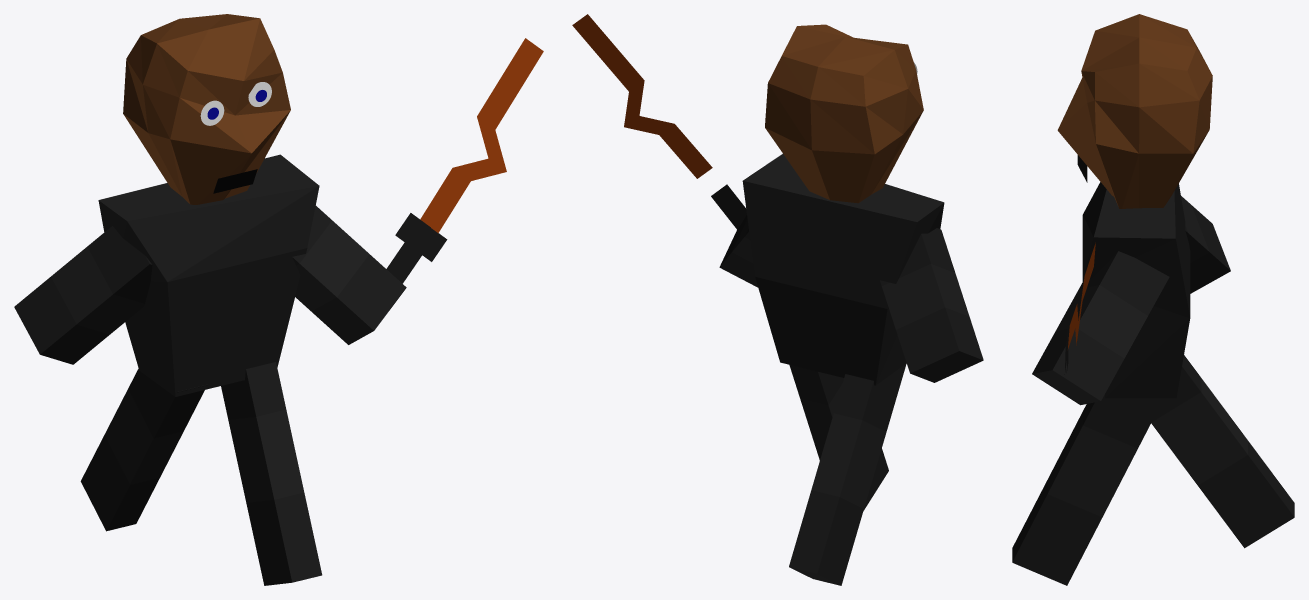
The model's file is swordsman3.obj.
3 renders of one model, left to right at view 1: azimuth 30°, elevation 25°; view 2: azimuth 150°, elevation 25°; view 3: azimuth 270°, elevation 25°, orthographic. The views are drawn at different scales.
Visible parts, largest first — view 1: Cube.001, Cube, Cube.005, Cube.003, Cube.004, Cube.002, Plane.003_Plane.004, Plane.002_Plane.003, Plane.001_Plane.002; view 2: Cube.001, Cube, Cube.004, Cube.003, Plane.003_Plane.004, Cube.005, Cube.002, Plane.001_Plane.002; view 3: Cube, Cube.001, Cube.005, Cube.004, Cube.002, Cube.003, Plane.003_Plane.004.
Boxes of the visible parts, left/top/right/bottom form: Cube.001: left=98, top=154, right=319, bottom=396; Cube: left=123, top=14, right=290, bottom=204; Cube.005: left=221, top=362, right=322, bottom=585; Cube.003: left=14, top=226, right=152, bottom=364; Cube.004: left=80, top=369, right=207, bottom=531; Cube.002: left=292, top=205, right=406, bottom=344; Plane.003_Plane.004: left=420, top=38, right=543, bottom=232; Plane.002_Plane.003: left=395, top=213, right=447, bottom=261; Plane.001_Plane.002: left=386, top=239, right=424, bottom=283; Cube.001: left=742, top=154, right=944, bottom=385; Cube: left=765, top=24, right=923, bottom=203; Cube.004: left=789, top=363, right=906, bottom=585; Cube.003: left=880, top=228, right=983, bottom=382; Plane.003_Plane.004: left=572, top=14, right=712, bottom=178; Cube.005: left=789, top=365, right=888, bottom=510; Cube.002: left=719, top=215, right=757, bottom=287; Plane.001_Plane.002: left=711, top=184, right=746, bottom=229; Cube: left=1057, top=14, right=1212, bottom=208; Cube.001: left=1082, top=182, right=1190, bottom=398; Cube.005: left=1012, top=395, right=1163, bottom=585; Cube.004: left=1151, top=355, right=1294, bottom=548; Cube.002: left=1032, top=251, right=1169, bottom=405; Cube.003: left=1181, top=196, right=1230, bottom=293; Plane.003_Plane.004: left=1068, top=242, right=1095, bottom=348.
Size of the model in its own units: 5.4 by 5.87 by 2.86.
